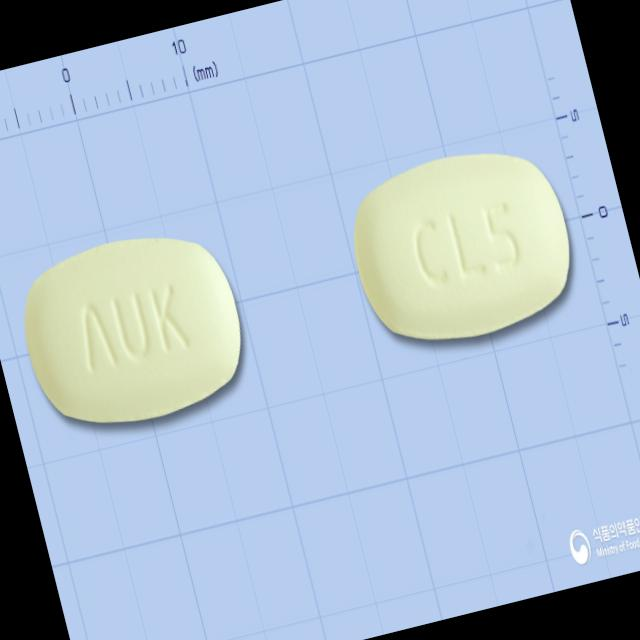Auscle: (5, 211, 264, 455)
